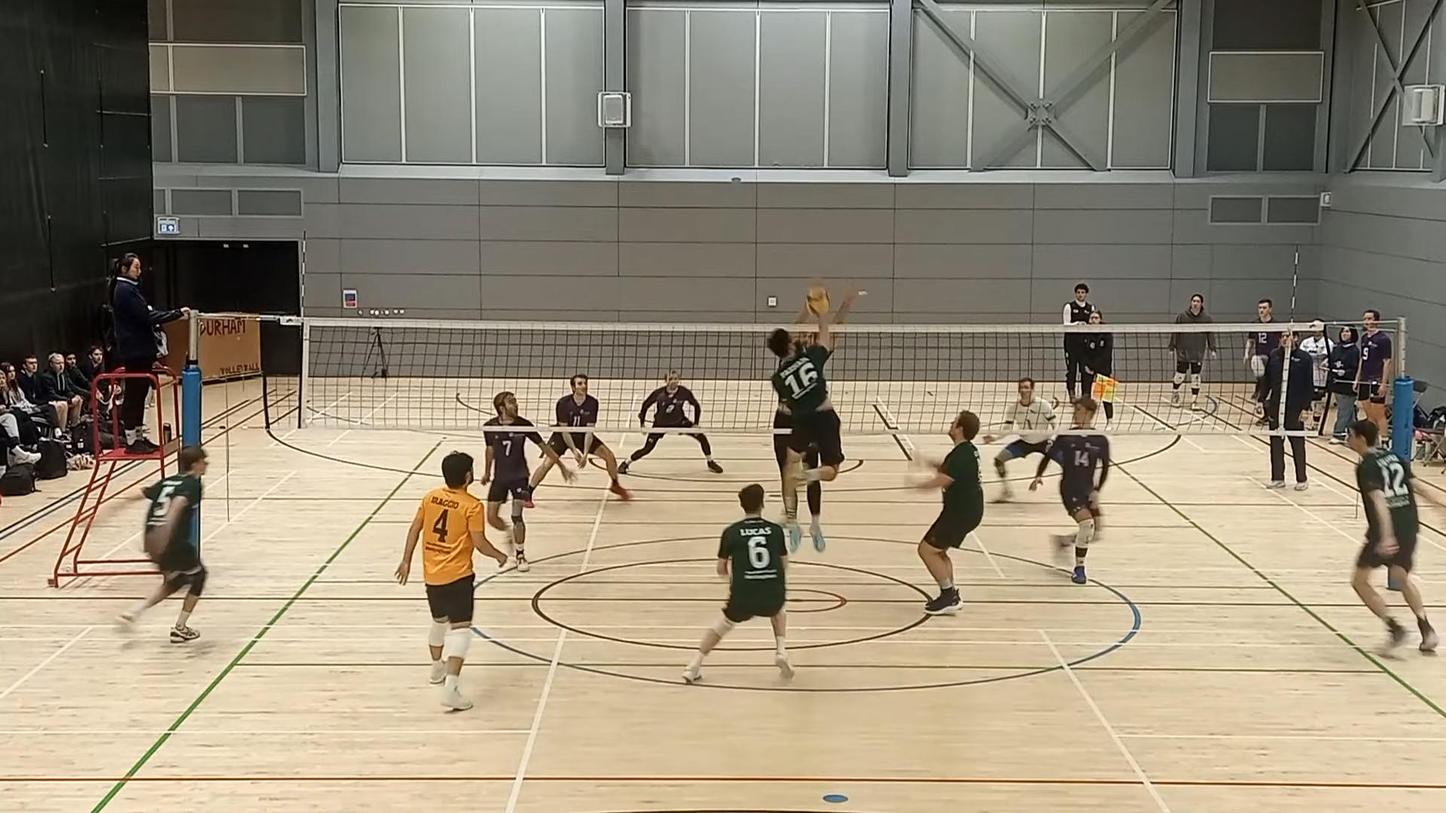attacco: (766, 301, 848, 559)
muro: (774, 271, 848, 556)
